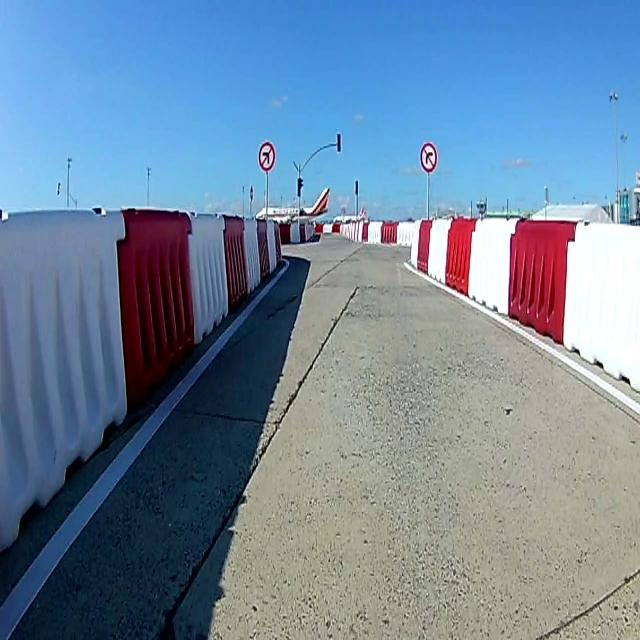sagadonulmez: (421, 142, 437, 172)
soladonulmez: (257, 142, 275, 170)
